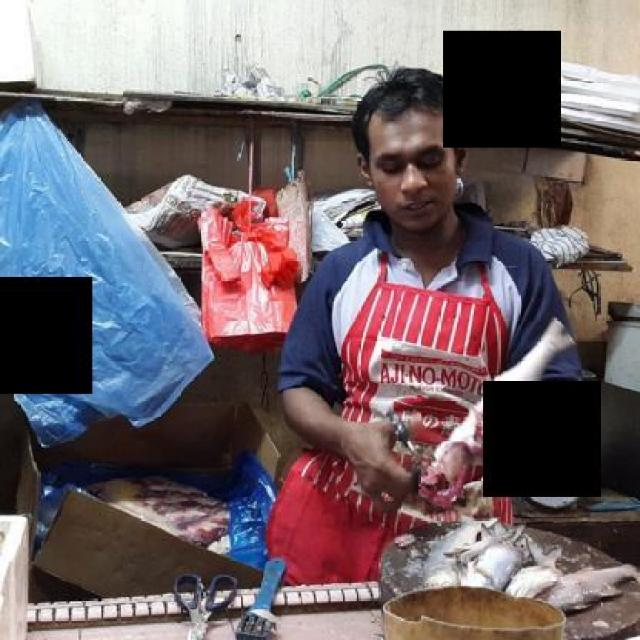plastic bag: (202, 206, 300, 354)
